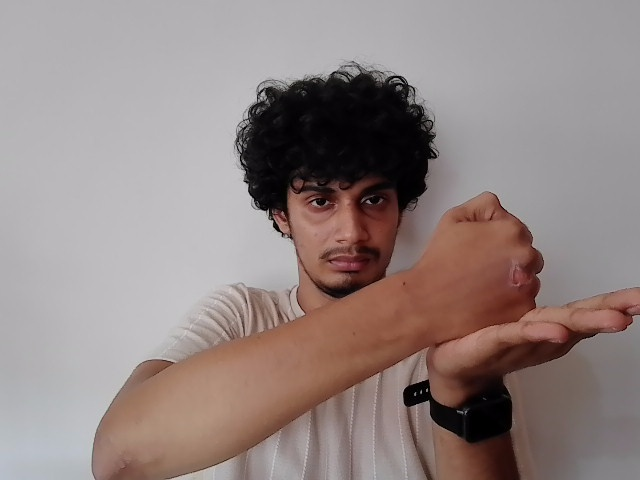help: (415, 187, 640, 378)
